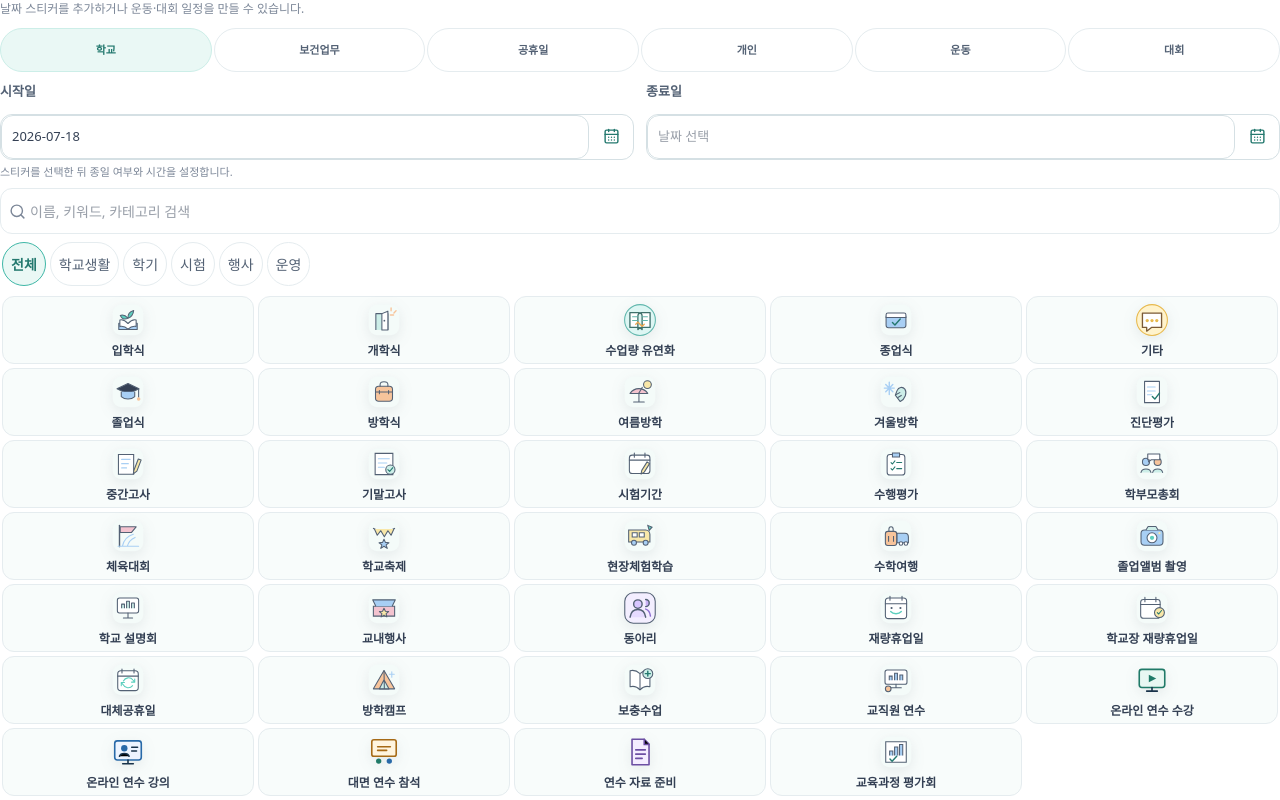
SchoolStickerPicker › shows an actionable empty search state and clears the query
The width and height of the screenshot is (1280, 800).
Type "없는검색어" into the search field named "스티커 검색" at (650, 211), box x1=30 y1=189 x2=1271 y2=233
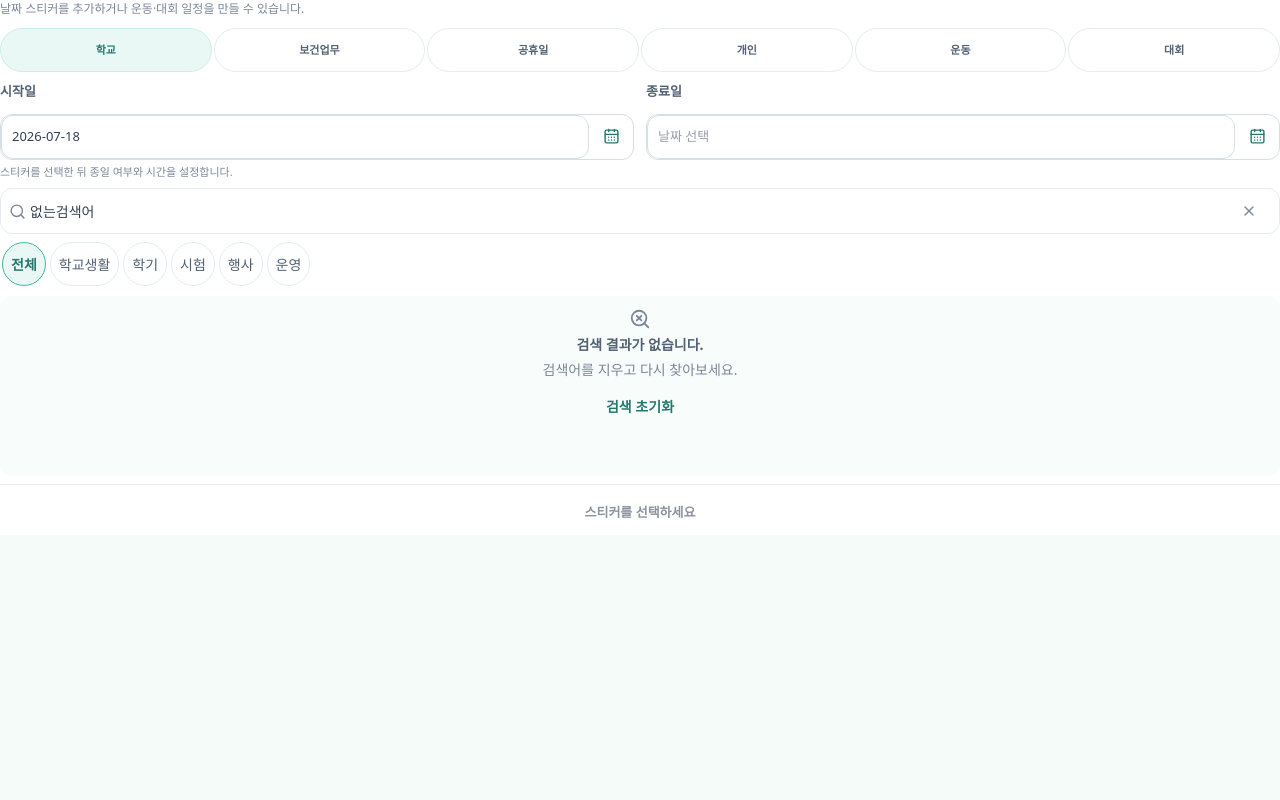
Result: the text "검색 결과가 없습니다." is shown at x1=576 y1=334 x2=704 y2=355
Result: the text "검색어를 지우고 다시 찾아보세요." is shown at x1=542 y1=359 x2=738 y2=380
Click the button "검색 초기화" at (640, 406), box x1=600 y1=384 x2=680 y2=428
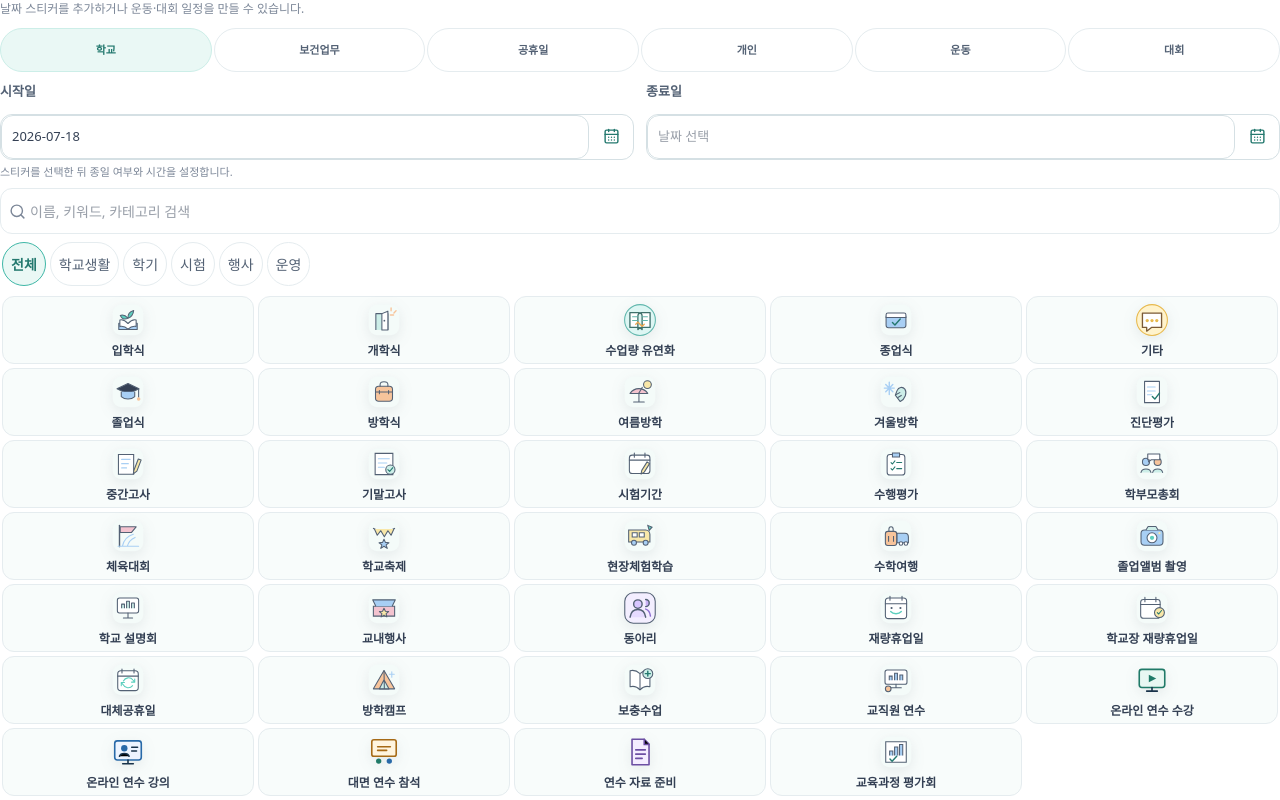
Result: the search field named "스티커 검색" is empty at x1=30 y1=189 x2=1271 y2=233
Result: the text "검색 결과가 없습니다." is gone
